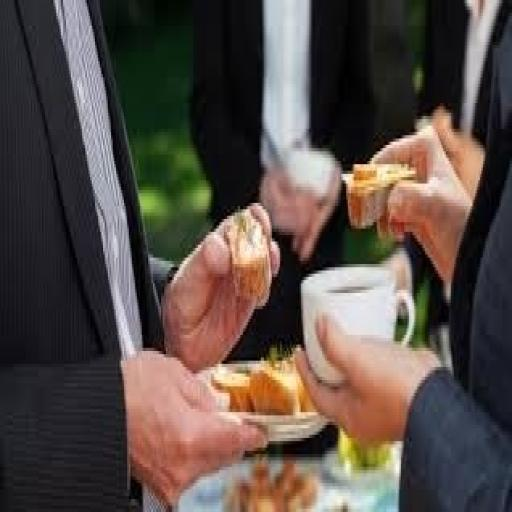eating: (0, 0, 280, 509)
